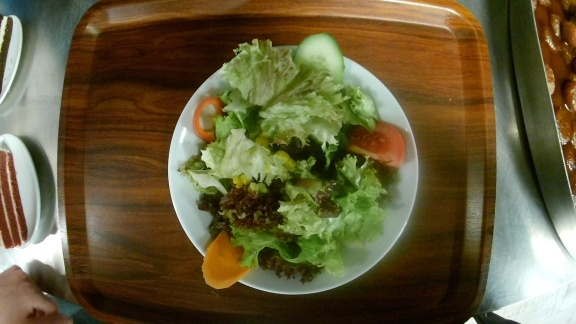salata: (168, 38, 421, 293)
